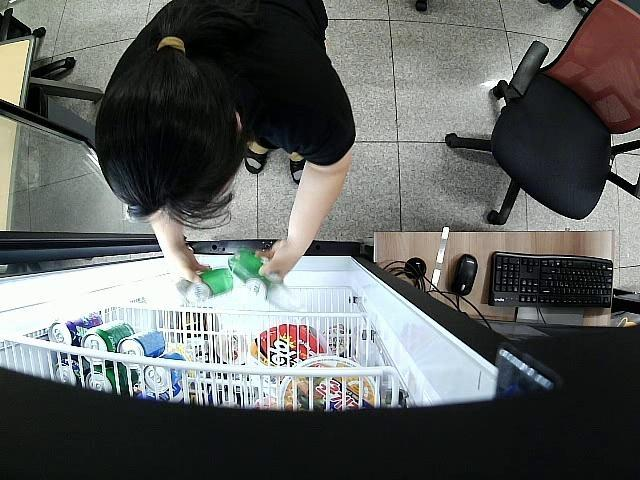18_trevi: (224, 250, 300, 313), (170, 266, 234, 299)
